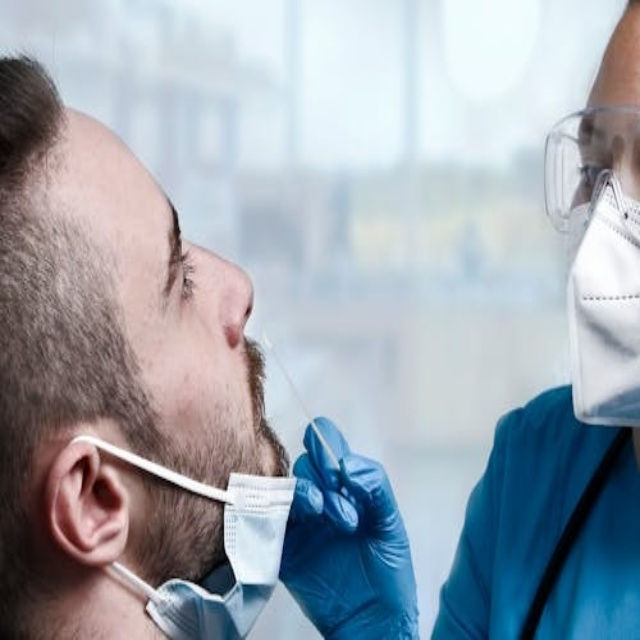Gafas: (540, 105, 640, 236)
Guantes: (277, 415, 420, 640)
Mascara: (554, 185, 636, 434)
Sin_gafas: (131, 163, 206, 382)
Sin_mascara: (237, 329, 289, 475)
